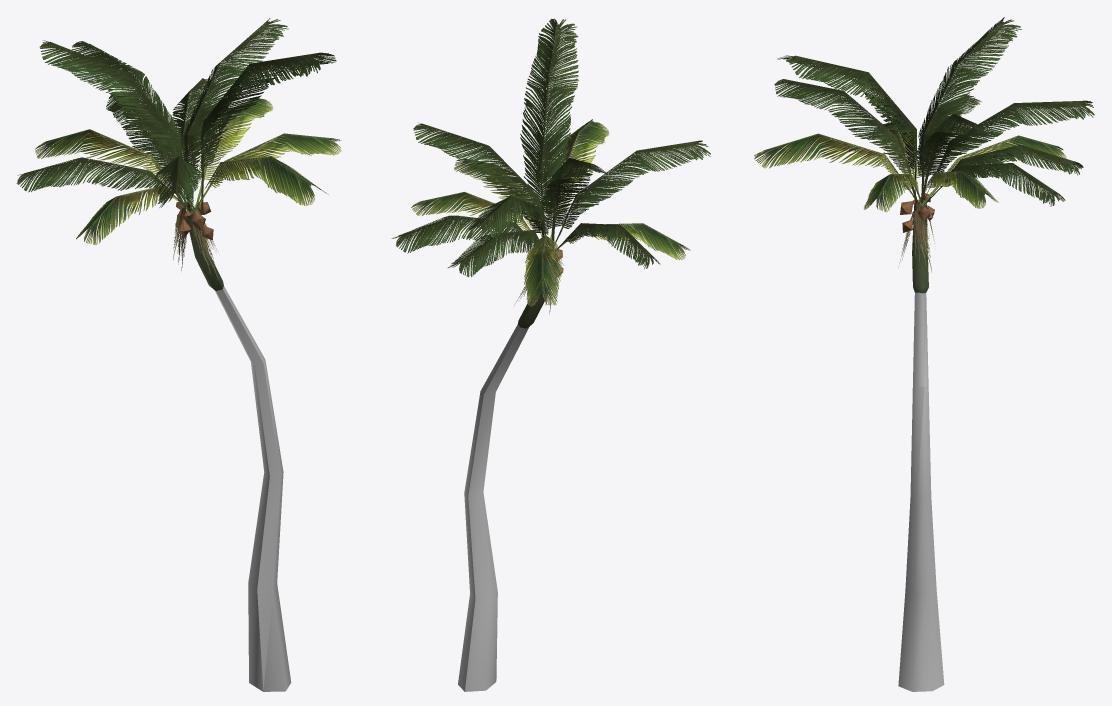
Rendered from kin_LOD1.fbx.
The picture shows the model from 3 angles, left to right: view 1: azimuth 30°, elevation 25°; view 2: azimuth 150°, elevation 25°; view 3: azimuth 270°, elevation 25°; orthographic projection. The views are drawn at different scales.
Parts seen in each view (by area): view 1: Mesh Object; view 2: Mesh Object; view 3: Mesh Object.
Part boxes in pixels (x1,y1,x2,y2): Mesh Object: (16, 18, 341, 691); Mesh Object: (391, 18, 710, 691); Mesh Object: (754, 17, 1094, 691).
Bounding box in the file's own units: 22.12 × 51.27 × 26.14.
